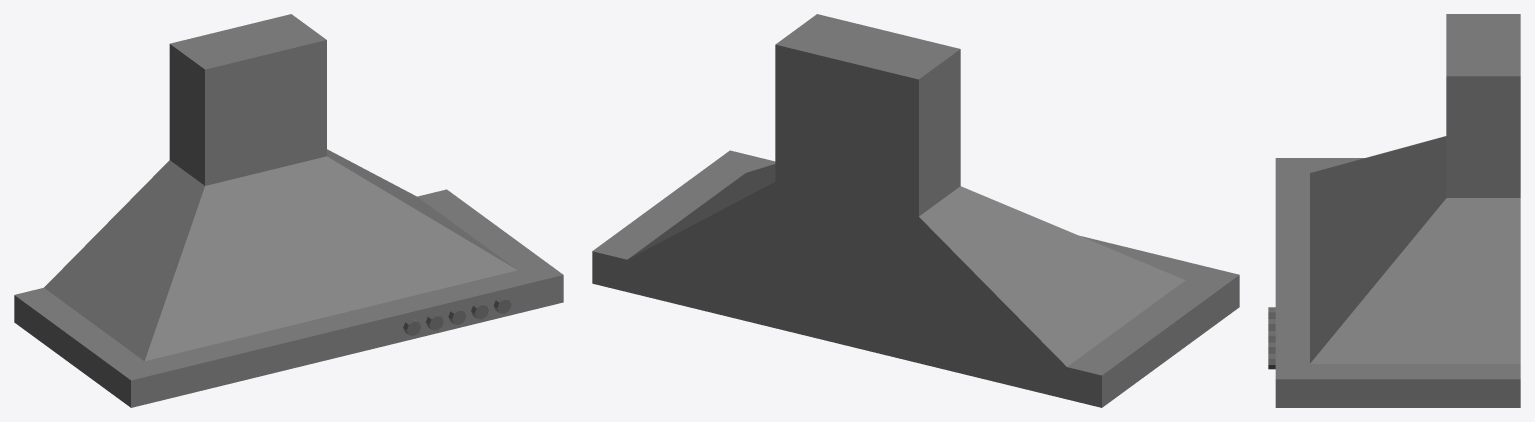
File: Int_KitchenHood01.fbx
3 views of the same model, side by side, from view 1: azimuth 30°, elevation 25°; view 2: azimuth 150°, elevation 25°; view 3: azimuth 270°, elevation 25° (orthographic). The views are drawn at different scales.
Visible parts, largest first — view 1: Int_KitchenHood01; view 2: Int_KitchenHood01; view 3: Int_KitchenHood01.
Boxes of the visible parts, <box> form: Int_KitchenHood01: <box>14,14,563,407</box>; Int_KitchenHood01: <box>592,14,1239,407</box>; Int_KitchenHood01: <box>1268,14,1520,407</box>.
Size of what is drawn, in the model's own units: 235 by 113 by 125.
